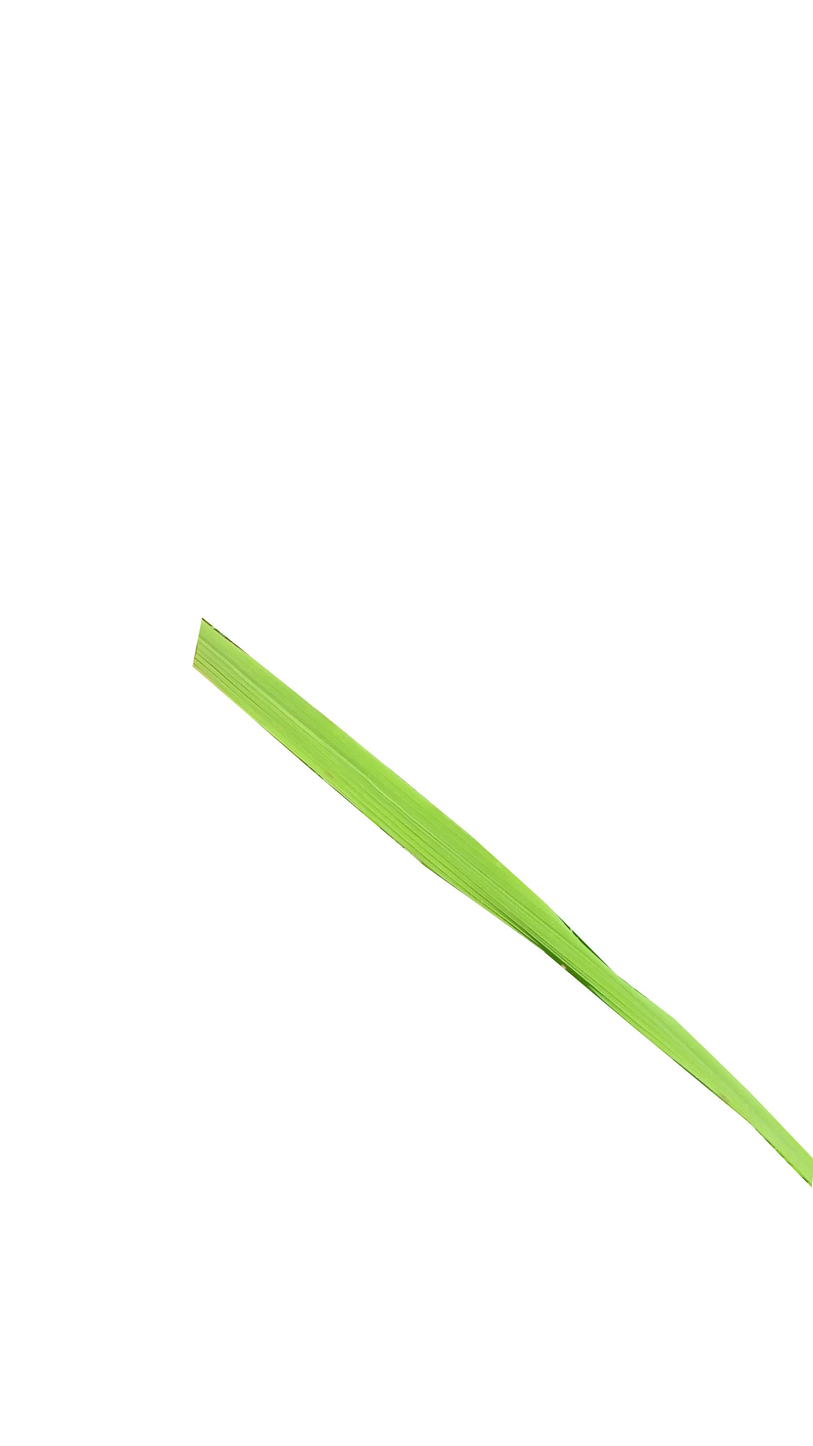Tungro: (190, 620, 813, 1198)
